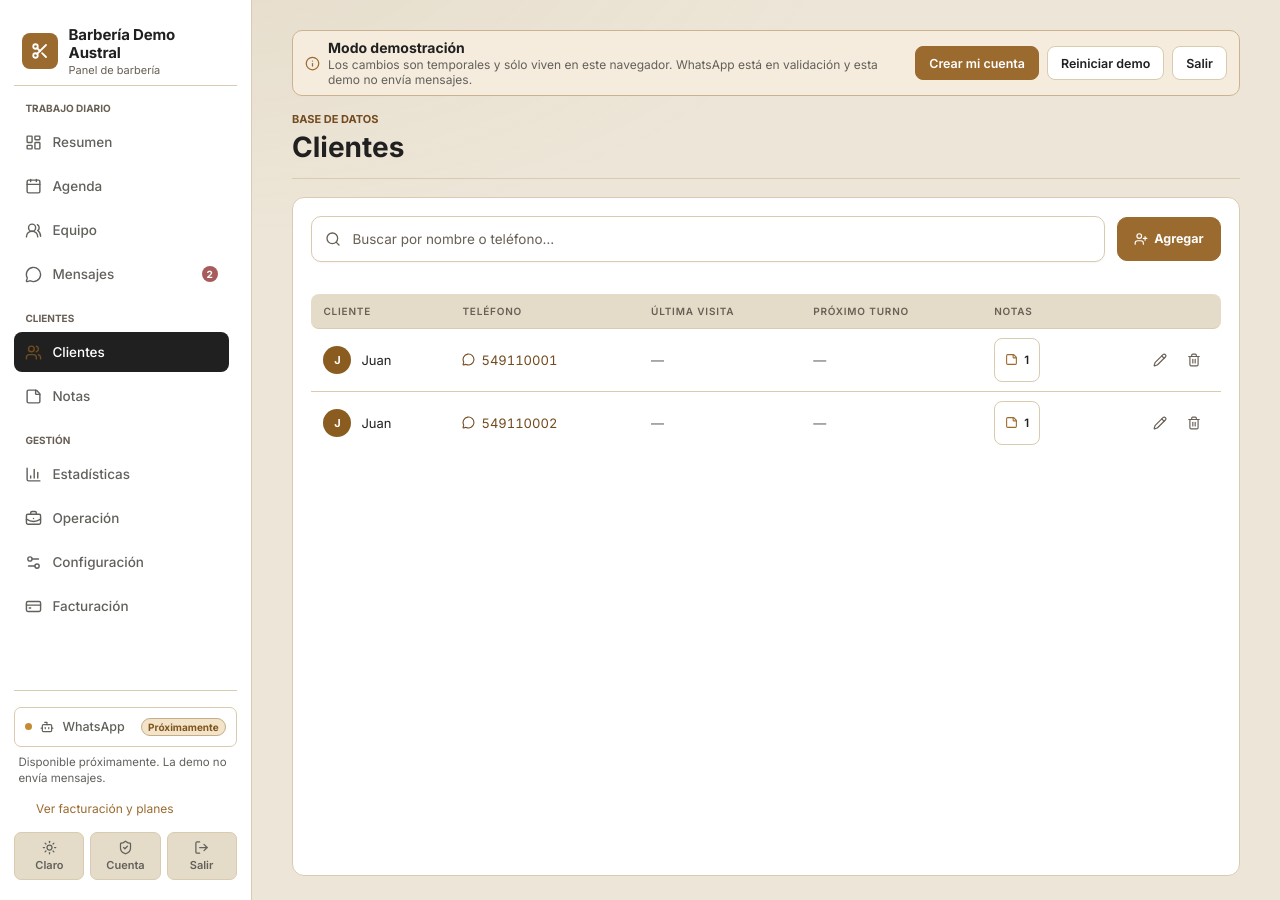
it: App: recorrido Clientes → Notas por id (43), sólo demo › filtra la ficha correcta, permite ver todas y crear una nota vinculada
This screenshot has width=1280, height=900.
Click the 1st button "1" at {"x": 1017, "y": 360}, box [994,338,1040,382]
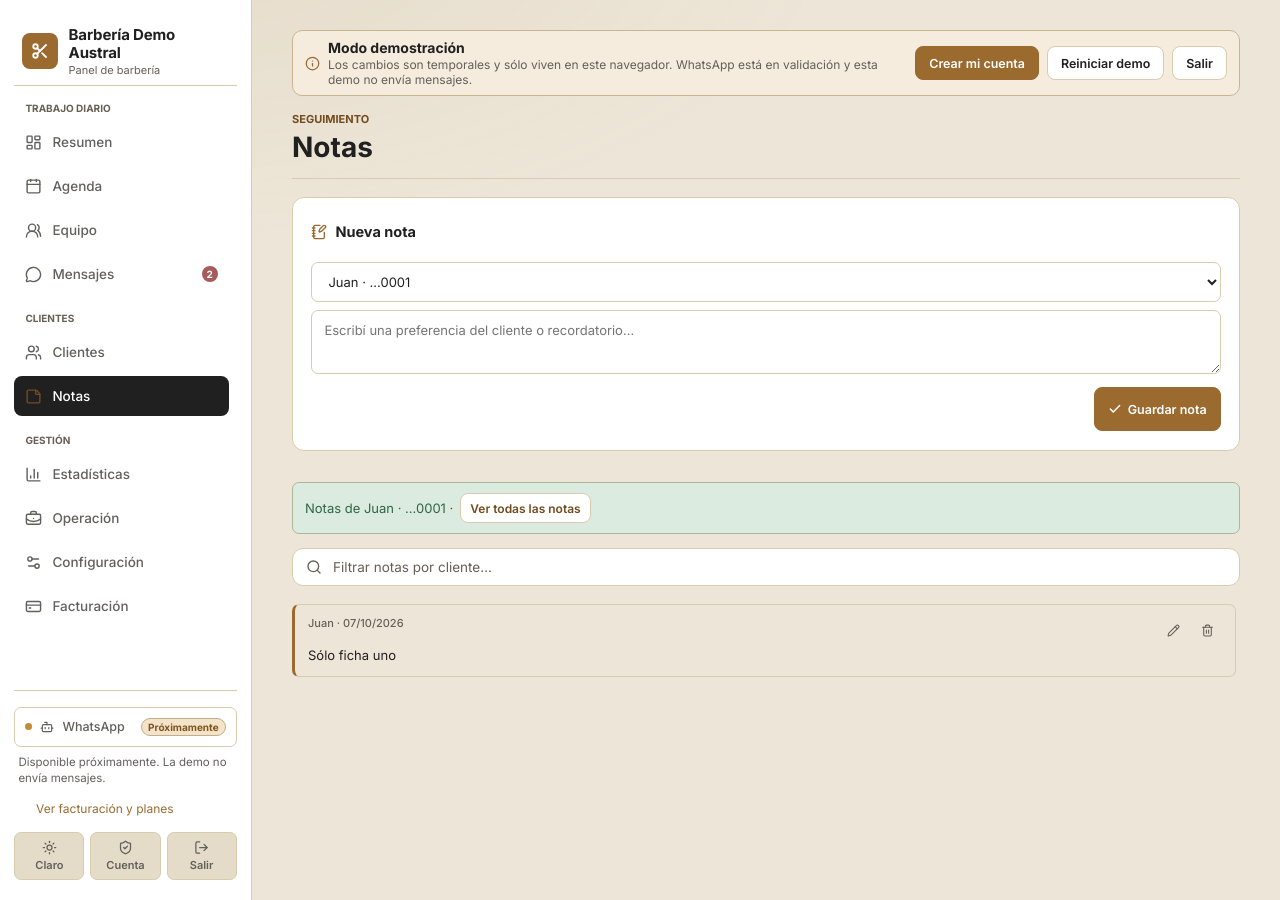
Expected: the text "Sólo ficha dos" is not shown
Expected: the text "Sólo ficha uno" is shown, [308,647,396,663]
Click the button "Ver todas las notas" at {"x": 526, "y": 508}, box [460,493,591,523]
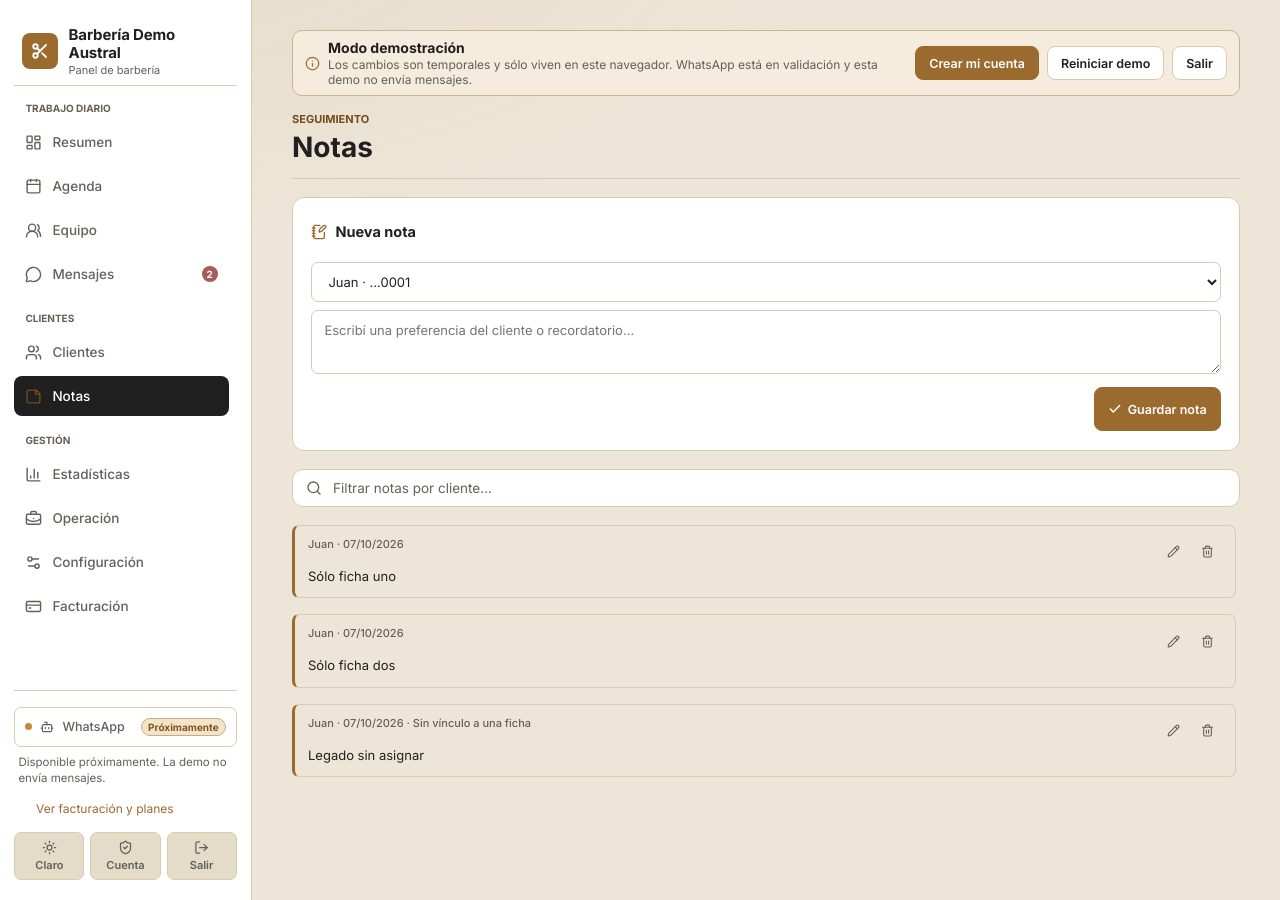
Expected: the text "Legado sin asignar" is shown, [308,747,424,763]
Select "Juan · …0002" in the dropdown named "Cliente de la nota" at {"x": 766, "y": 282}, box [311,262,1221,302]
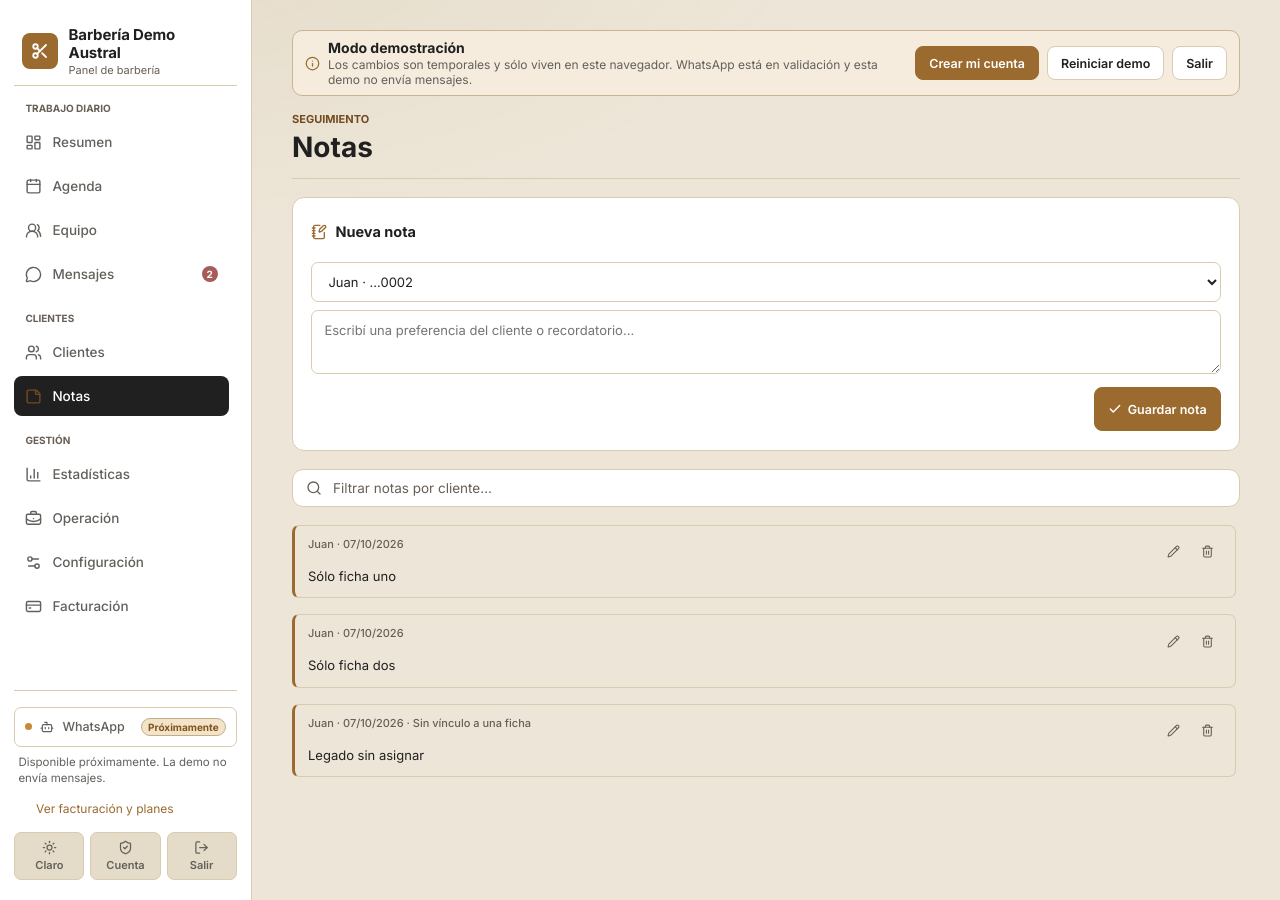
Type "Nueva de dos" into the text box named "Contenido de la nota" at {"x": 766, "y": 342}, box [311,310,1221,374]
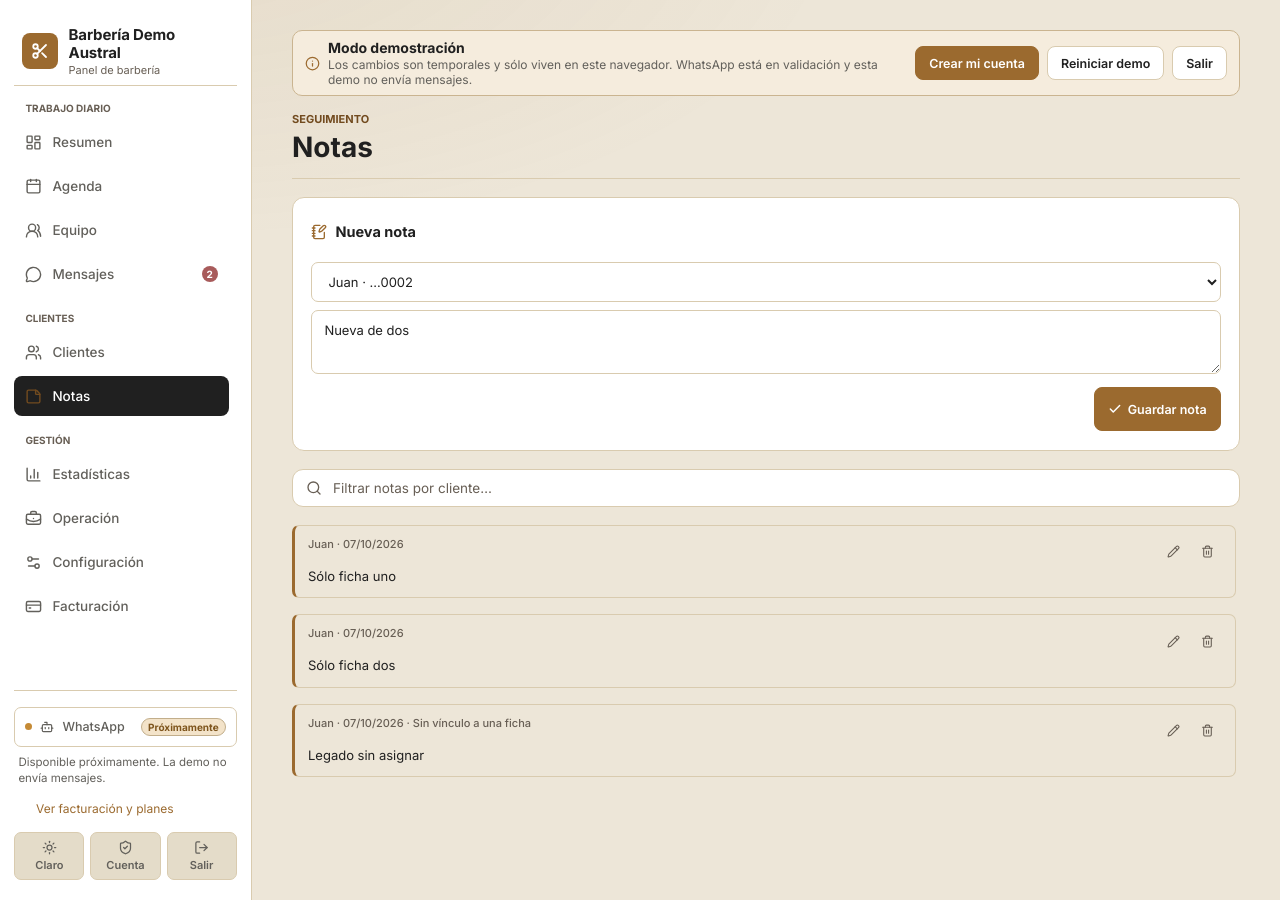
Click the button "Guardar nota" at {"x": 1157, "y": 409}, box [1094,387,1221,431]
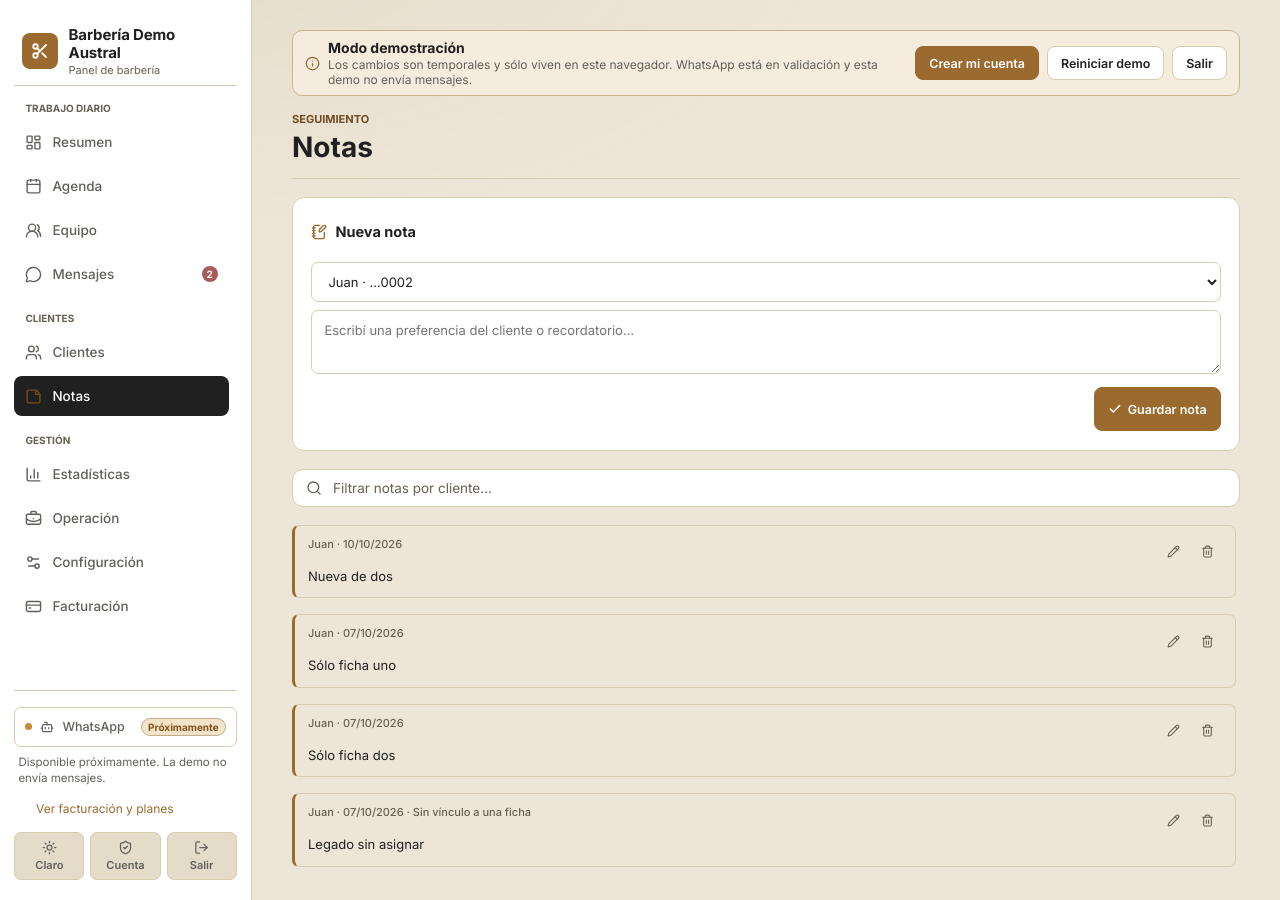
Expected: the text "Nueva de dos" is shown, [308,568,393,584]
Expected: the text box named "Contenido de la nota" is empty, [311,310,1221,374]
